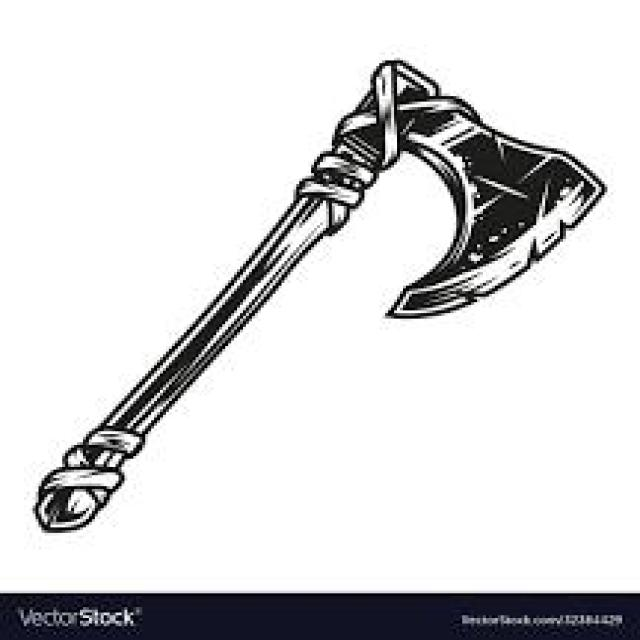Gun: (1, 22, 640, 545)
